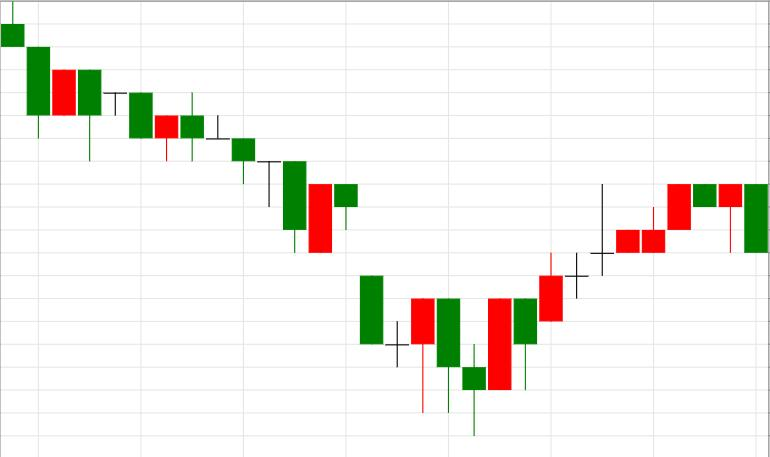morning_star_rise: (181, 92, 434, 413)
